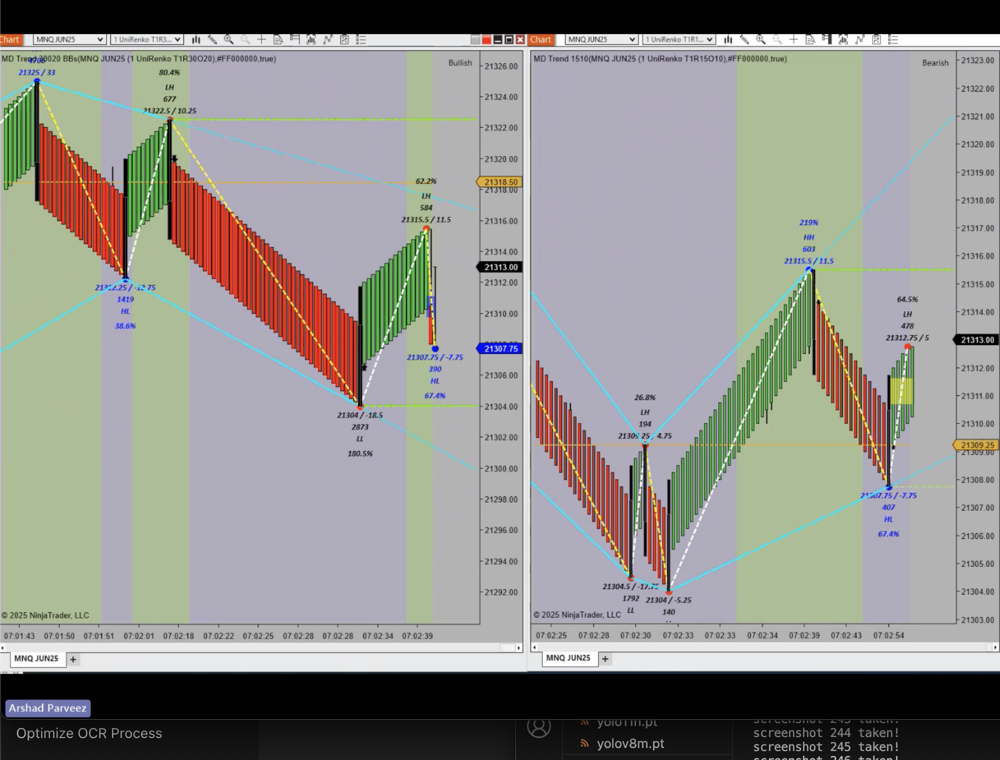HH: (797, 229, 829, 247)
HL: (423, 372, 449, 393), (114, 304, 139, 320), (879, 512, 901, 530)
LH: (415, 187, 443, 206), (159, 78, 184, 96), (633, 405, 659, 422), (899, 306, 919, 323)
LL: (347, 429, 371, 447), (601, 606, 623, 624), (623, 603, 643, 620)
